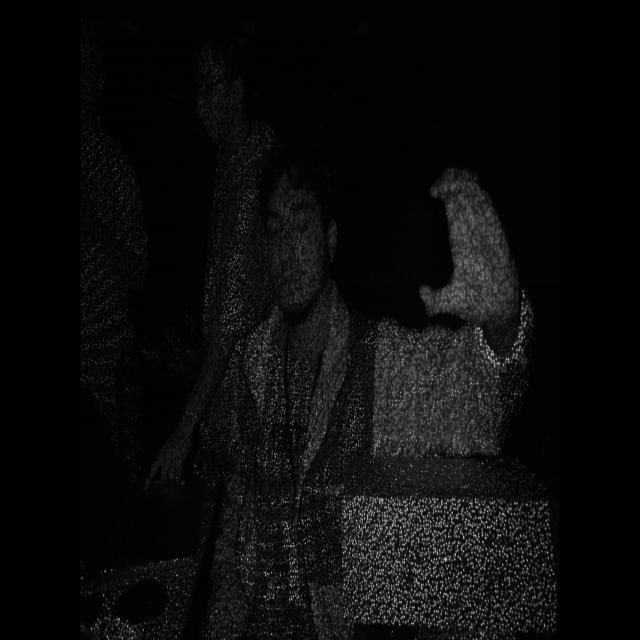C: (415, 151, 510, 342)
